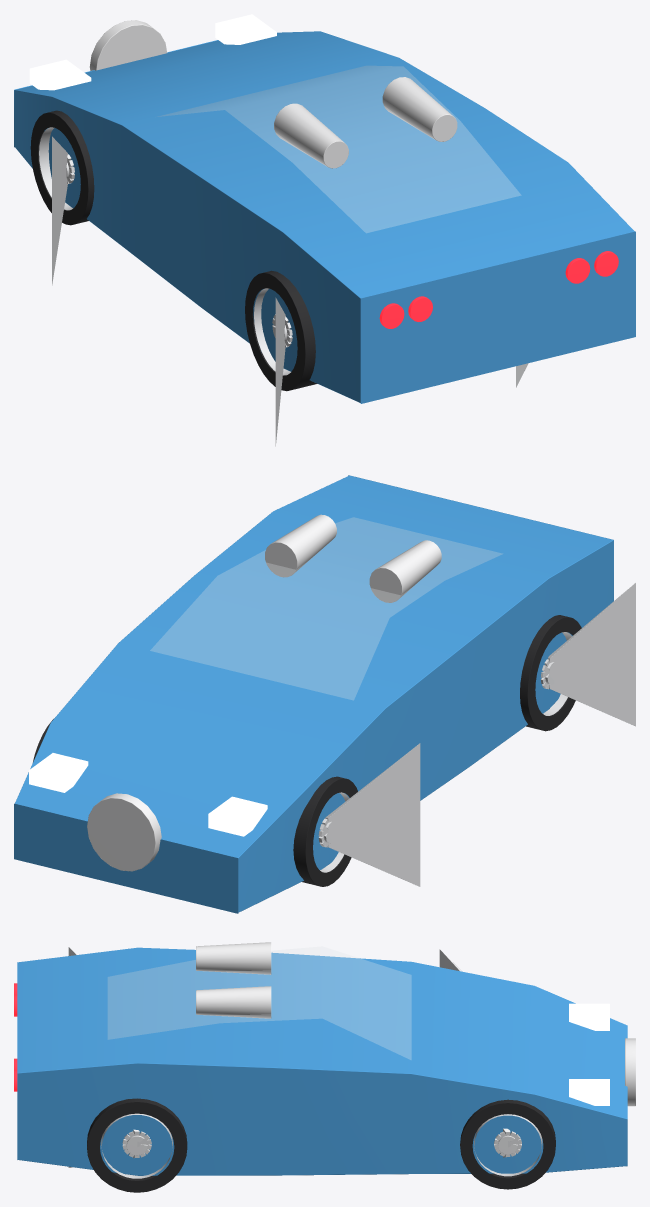
The model's file is Car_Bugatti_Veyron_16.4_2000s.glb.
3 renders of one model, top to bottom at view 1: azimuth 30°, elevation 25°; view 2: azimuth 150°, elevation 25°; view 3: azimuth 270°, elevation 25°, orthographic. The views are drawn at different scales.
Visible parts, largest first — view 1: BODY_Veyron_MainShell, GLASS_Greenhouse, BODY_Roof_AirScoops, WHEEL_RR_Tire, WHEEL_FR_Tire, LIGHT_Headlights, BODY_Horseshoe_Grille, WHEEL_FR_Rim, LIGHT_Taillights, WHEEL_RR_Rim; view 2: BODY_Veyron_MainShell, GLASS_Greenhouse, WHEEL_FR_Rim, WHEEL_RR_Rim, BODY_Roof_AirScoops, BODY_Horseshoe_Grille, LIGHT_Headlights, WHEEL_FR_Tire, WHEEL_RR_Tire; view 3: BODY_Veyron_MainShell, GLASS_Greenhouse, BODY_Roof_AirScoops, WHEEL_RL_Tire, WHEEL_FL_Tire, LIGHT_Headlights, WHEEL_RL_Rim, WHEEL_FL_Rim, BODY_Horseshoe_Grille.
Part boxes in pixels (left/top/right/bottom): BODY_Veyron_MainShell: left=14, top=31, right=635, bottom=403; GLASS_Greenhouse: left=158, top=66, right=520, bottom=232; BODY_Roof_AirScoops: left=274, top=77, right=457, bottom=168; WHEEL_RR_Tire: left=245, top=270, right=317, bottom=391; WHEEL_FR_Tire: left=30, top=110, right=94, bottom=225; LIGHT_Headlights: left=29, top=14, right=276, bottom=90; BODY_Horseshoe_Grille: left=89, top=20, right=166, bottom=70; WHEEL_FR_Rim: left=39, top=127, right=74, bottom=285; LIGHT_Taillights: left=379, top=251, right=618, bottom=328; WHEEL_RR_Rim: left=254, top=288, right=292, bottom=446; BODY_Veyron_MainShell: left=14, top=475, right=613, bottom=913; GLASS_Greenhouse: left=150, top=517, right=502, bottom=700; WHEEL_FR_Rim: left=318, top=743, right=420, bottom=886; WHEEL_RR_Rim: left=540, top=583, right=635, bottom=726; BODY_Roof_AirScoops: left=265, top=514, right=441, bottom=602; BODY_Horseshoe_Grille: left=87, top=793, right=161, bottom=871; LIGHT_Headlights: left=29, top=753, right=267, bottom=836; WHEEL_FR_Tire: left=293, top=776, right=357, bottom=886; WHEEL_RR_Tire: left=520, top=615, right=581, bottom=731; BODY_Veyron_MainShell: left=17, top=947, right=627, bottom=1175; GLASS_Greenhouse: left=108, top=946, right=411, bottom=1059; BODY_Roof_AirScoops: left=196, top=942, right=271, bottom=1018; WHEEL_RL_Tire: left=87, top=1098, right=187, bottom=1192; WHEEL_FL_Tire: left=460, top=1099, right=555, bottom=1189; LIGHT_Headlights: left=569, top=1003, right=609, bottom=1105; WHEEL_RL_Rim: left=68, top=1113, right=172, bottom=1178; WHEEL_FL_Rim: left=474, top=1114, right=542, bottom=1176; BODY_Horseshoe_Grille: left=625, top=1038, right=635, bottom=1106.
Size of the model in its own units: 2.4 by 1.49 by 4.55.
